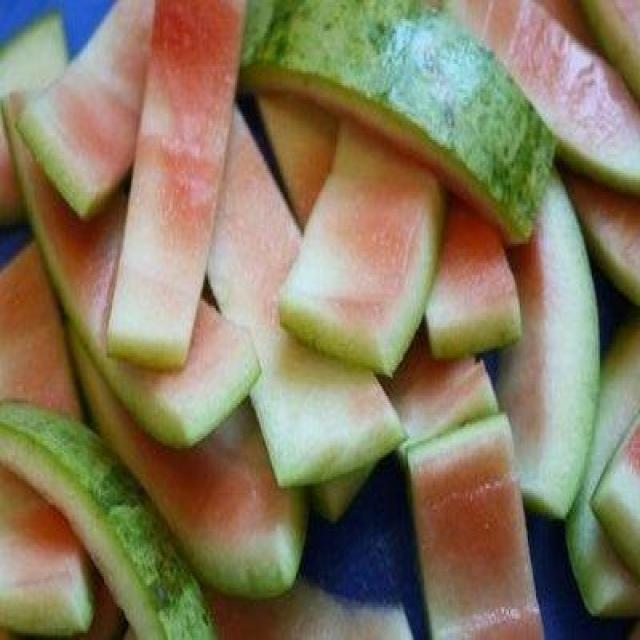Wet Waste: (1, 2, 638, 638)
